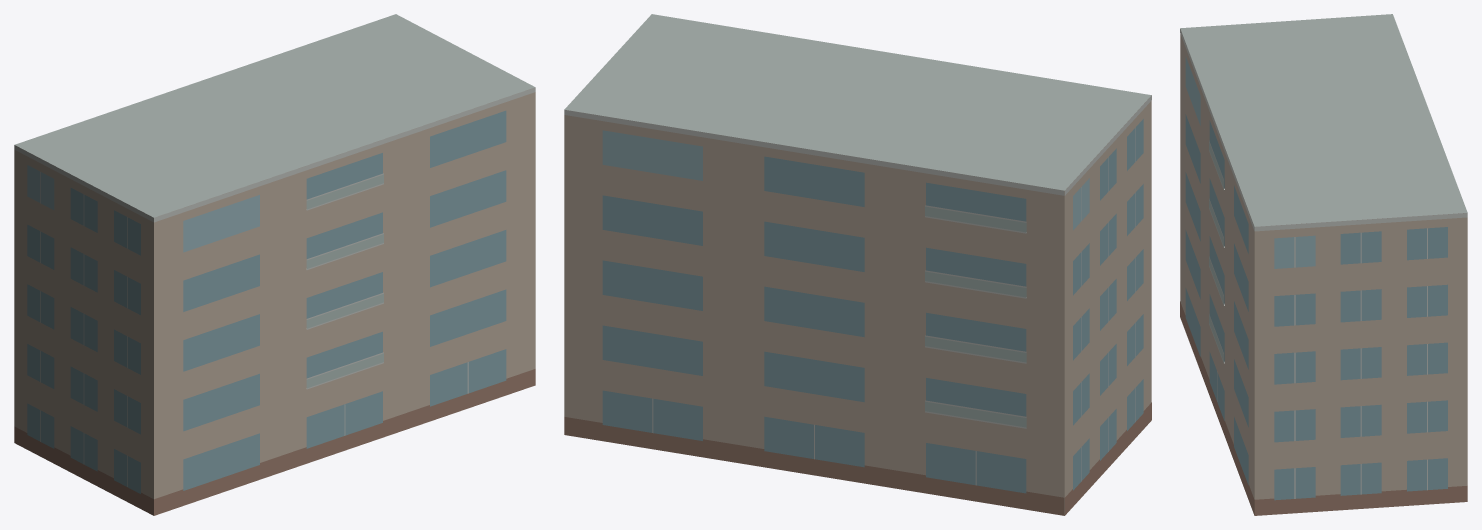
The model's file is survey-upis-32778905.glb.
The picture shows the model from 3 angles, left to right: view 1: azimuth 30°, elevation 25°; view 2: azimuth 150°, elevation 25°; view 3: azimuth 270°, elevation 25°; orthographic projection. The views are drawn at different scales.
Visible parts, largest first — view 1: survey-upis-32778905.tmp; view 2: survey-upis-32778905.tmp; view 3: survey-upis-32778905.tmp.
Boxes of the visible parts, <box> form: survey-upis-32778905.tmp: <box>14,14,535,515</box>; survey-upis-32778905.tmp: <box>564,14,1151,515</box>; survey-upis-32778905.tmp: <box>1180,14,1467,515</box>.
Size of the model in its own units: 24.09 by 15.25 by 13.76.
